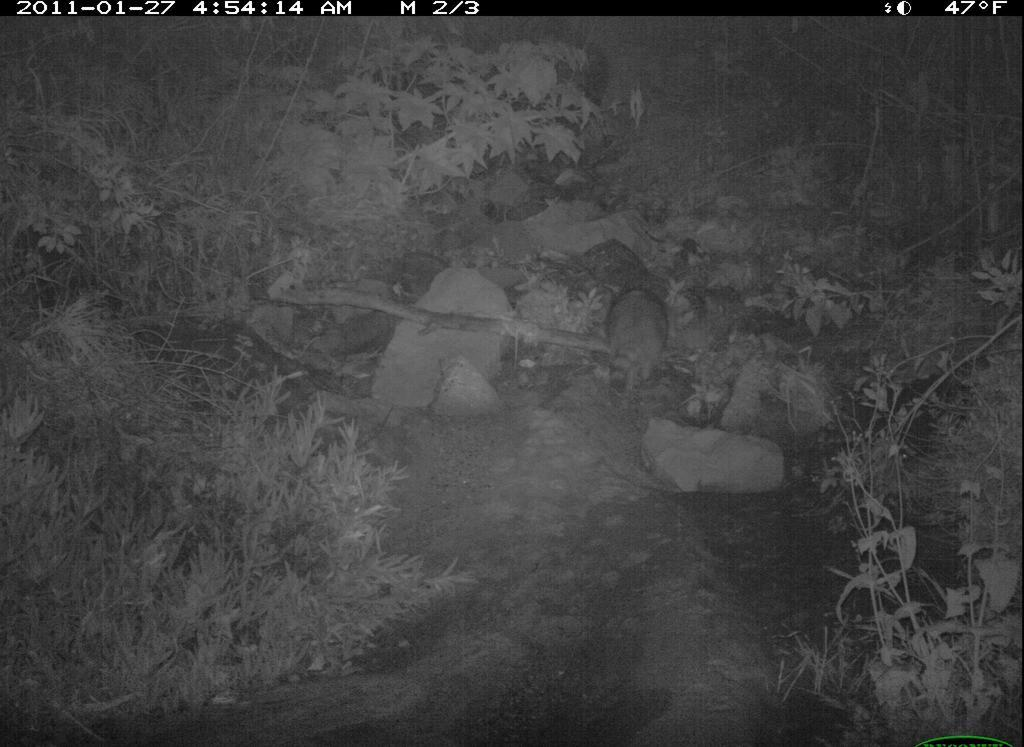raccoon: (598, 282, 677, 395)
